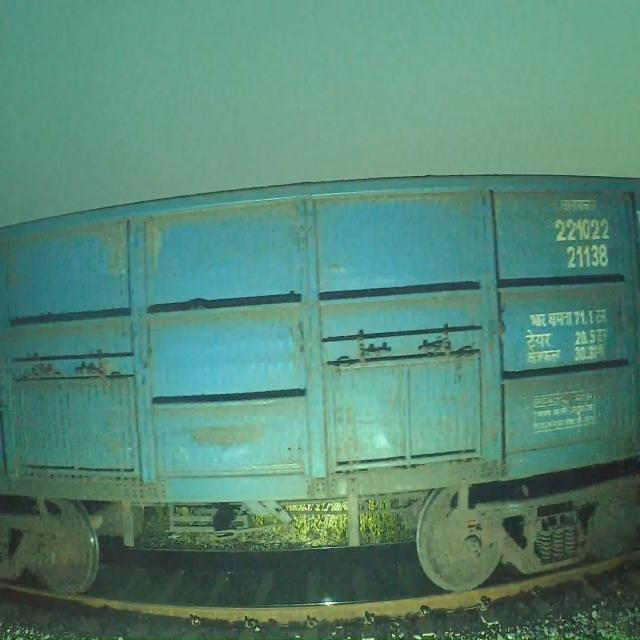WAgon-uic: (0, 174, 640, 598)
uic: (550, 214, 614, 270)
